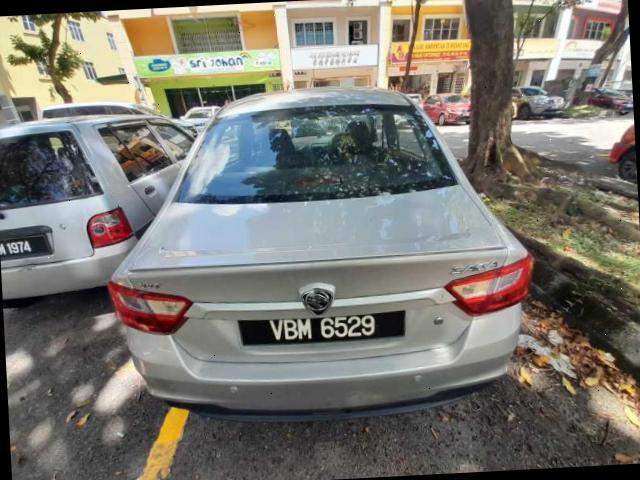License_Plate: (238, 310, 408, 349)
car: (97, 76, 542, 430)
